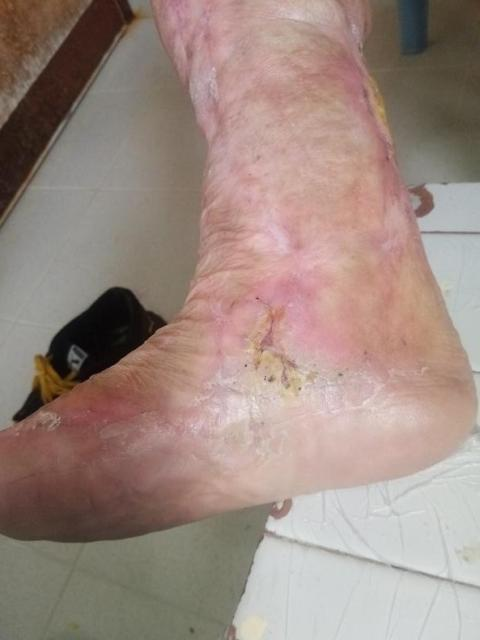wound: (248, 292, 313, 397)
